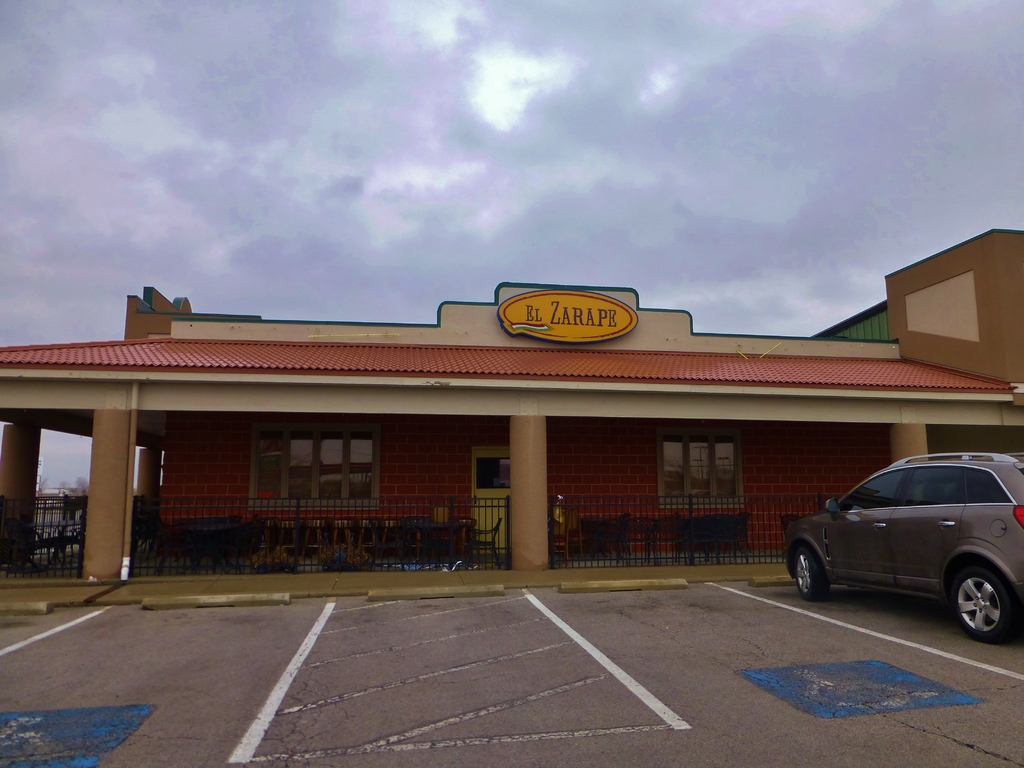Car: (784, 447, 1023, 648)
